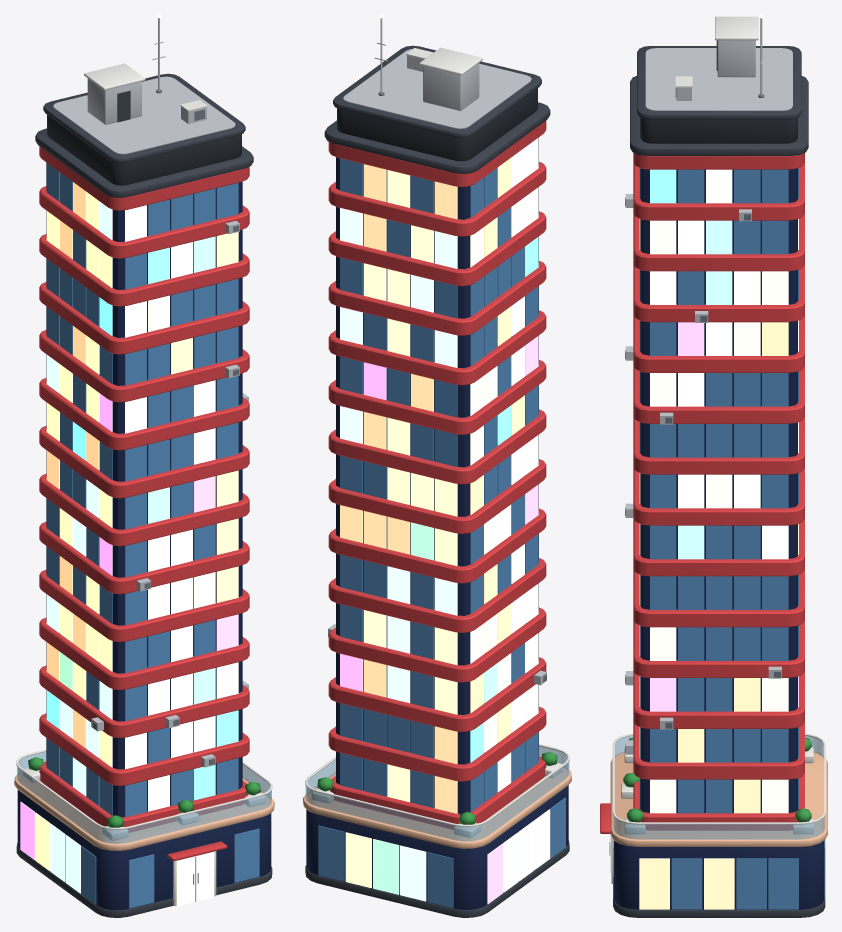
The model's file is torre_faixas_vermelhas.glb.
3 views of the same model, side by side, from view 1: azimuth 30°, elevation 25°; view 2: azimuth 150°, elevation 25°; view 3: azimuth 270°, elevation 25° (orthographic). The views are drawn at different scales.
Parts seen in each view (by area): view 1: torre_faixas_vermelhas; view 2: torre_faixas_vermelhas; view 3: torre_faixas_vermelhas.
Part boxes in pixels (x1,y1,x2,y2): torre_faixas_vermelhas: [14, 14, 274, 917]; torre_faixas_vermelhas: [303, 14, 571, 917]; torre_faixas_vermelhas: [600, 14, 827, 917].
Bounding box in the file's own units: 12.4 × 55.21 × 13.
Materials: 10 (1 with a texture image).
